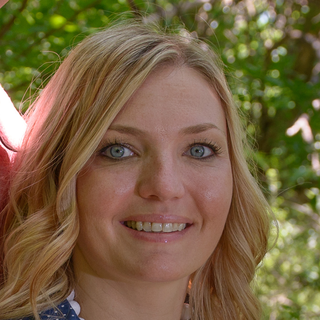eye: (177, 136, 222, 164), (96, 139, 141, 164)
